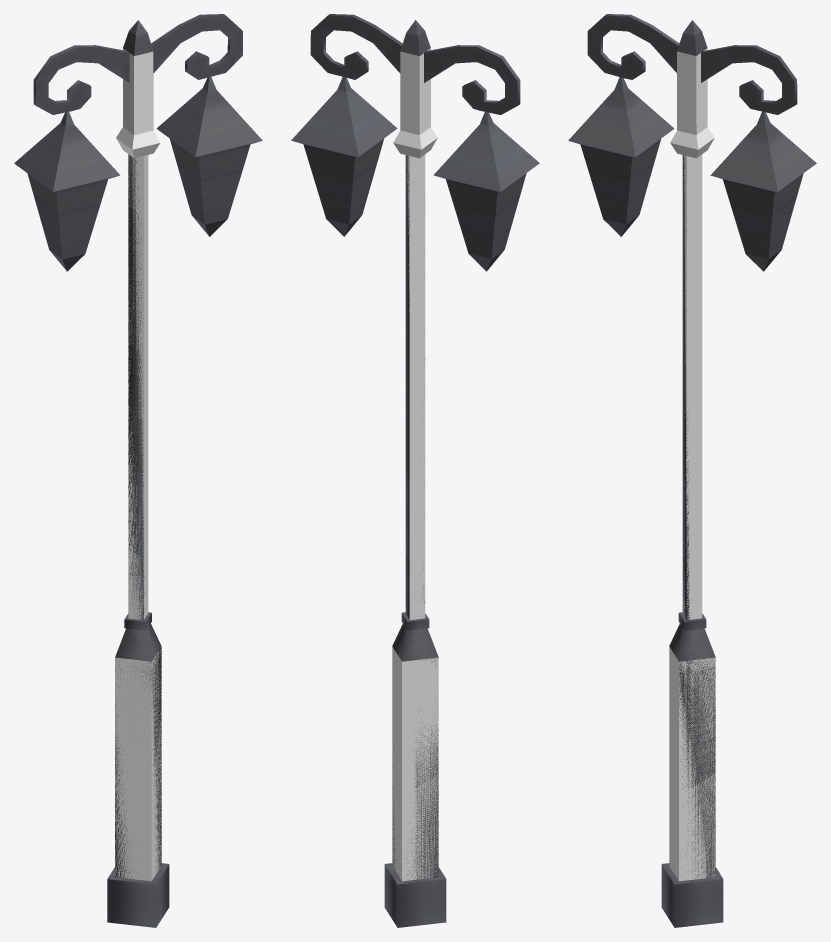
File: objects_un_streetlight02.gltf
3 renders of one model, left to right at view 1: azimuth 30°, elevation 25°; view 2: azimuth 150°, elevation 25°; view 3: azimuth 330°, elevation 25°, orthographic.
Parts seen in each view (by area): view 1: nomerge_objects_un_streetlight02_mesh1_shape:objects_un_stre, objects_un_streetlight02_shadow_shape:objects_un_streetlight; view 2: nomerge_objects_un_streetlight02_mesh1_shape:objects_un_stre, objects_un_streetlight02_shadow_shape:objects_un_streetlight; view 3: nomerge_objects_un_streetlight02_mesh1_shape:objects_un_stre, objects_un_streetlight02_shadow_shape:objects_un_streetlight.
Boxes of the visible parts, bbox=[...] form: nomerge_objects_un_streetlight02_mesh1_shape:objects_un_stre: bbox=[14, 14, 262, 927]; objects_un_streetlight02_shadow_shape:objects_un_streetlight: bbox=[115, 48, 161, 881]; nomerge_objects_un_streetlight02_mesh1_shape:objects_un_stre: bbox=[291, 14, 539, 927]; objects_un_streetlight02_shadow_shape:objects_un_streetlight: bbox=[392, 48, 438, 881]; nomerge_objects_un_streetlight02_mesh1_shape:objects_un_stre: bbox=[568, 14, 816, 927]; objects_un_streetlight02_shadow_shape:objects_un_streetlight: bbox=[669, 48, 715, 881].
Size of what is drawn, in the model's own units: 1.18 by 4.8 by 0.3797.
2 materials, 1 textured.
